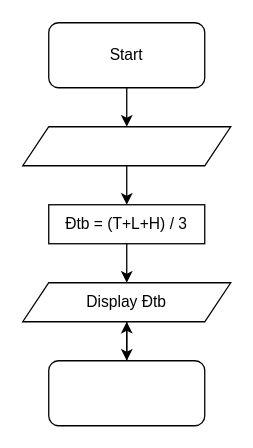
Some shapes in this 253 by 448 pixel diagram are drawn without their labels. Each missing label, with the centre of its shape:
Input T,L,H: point (126, 145)
Stop: point (126, 392)
